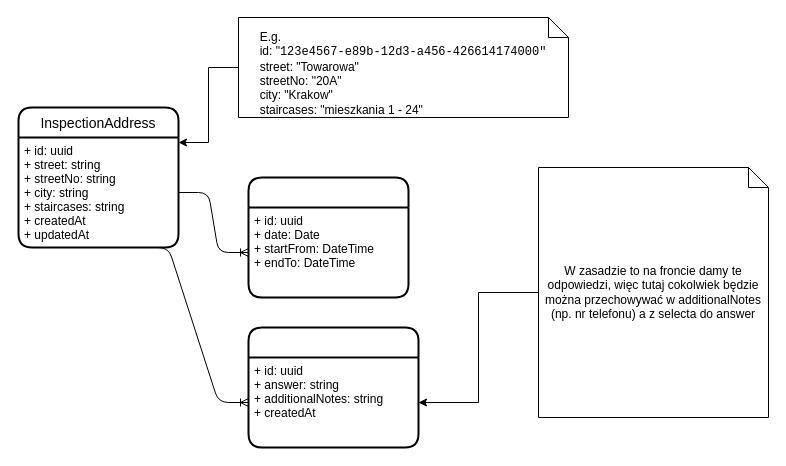
This 786x466 diagram has some shape labels left out. The shapes that lost their labels are listed below. From the top down, each one's box as (x1, y1, x2, y2) in pixels, then its label:
(247, 176, 409, 298): InspectionTime
(247, 326, 419, 448): InspectionConfirmation
